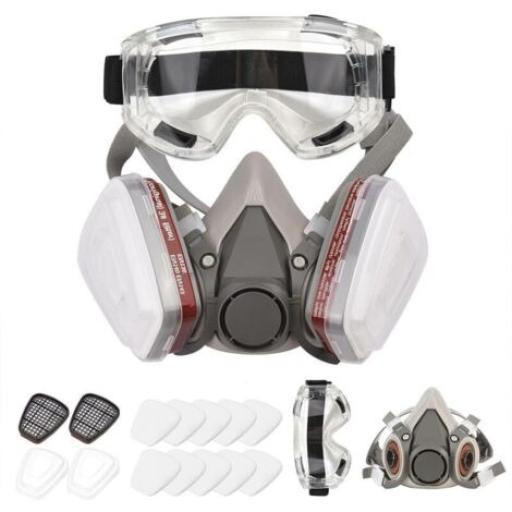mask: (73, 10, 446, 381)
